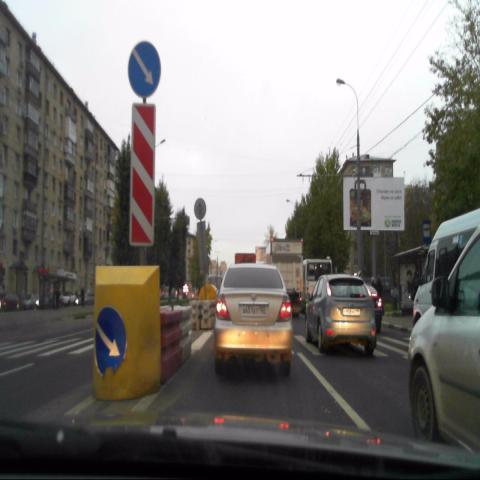4_2_1: (94, 306, 126, 376)
